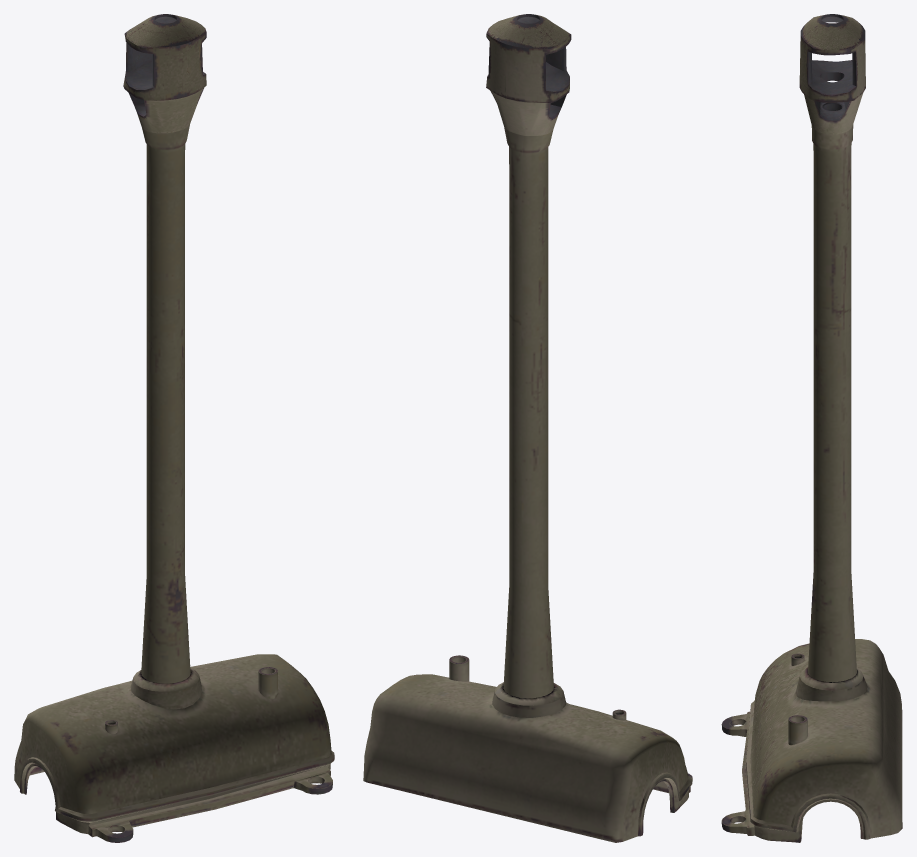
File: Gun_01.glb
3 views of the same model, side by side, from view 1: azimuth 30°, elevation 25°; view 2: azimuth 150°, elevation 25°; view 3: azimuth 270°, elevation 25° (orthographic). The views are drawn at different scales.
Parts seen in each view (by area): view 1: set_0_group_0; view 2: set_0_group_0; view 3: set_0_group_0.
Part boxes in pixels (bbox=[...]): set_0_group_0: bbox=[14, 14, 334, 842]; set_0_group_0: bbox=[363, 14, 692, 842]; set_0_group_0: bbox=[721, 14, 902, 842].
Bounding box in the file's own units: 1.44 × 3.89 × 0.8426.
Materials: 1 (1 with a texture image).
